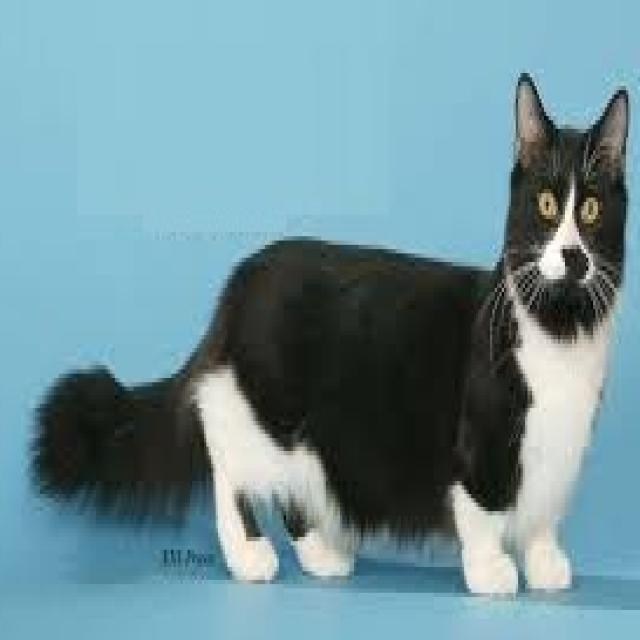Munchkin: (27, 68, 634, 607)
